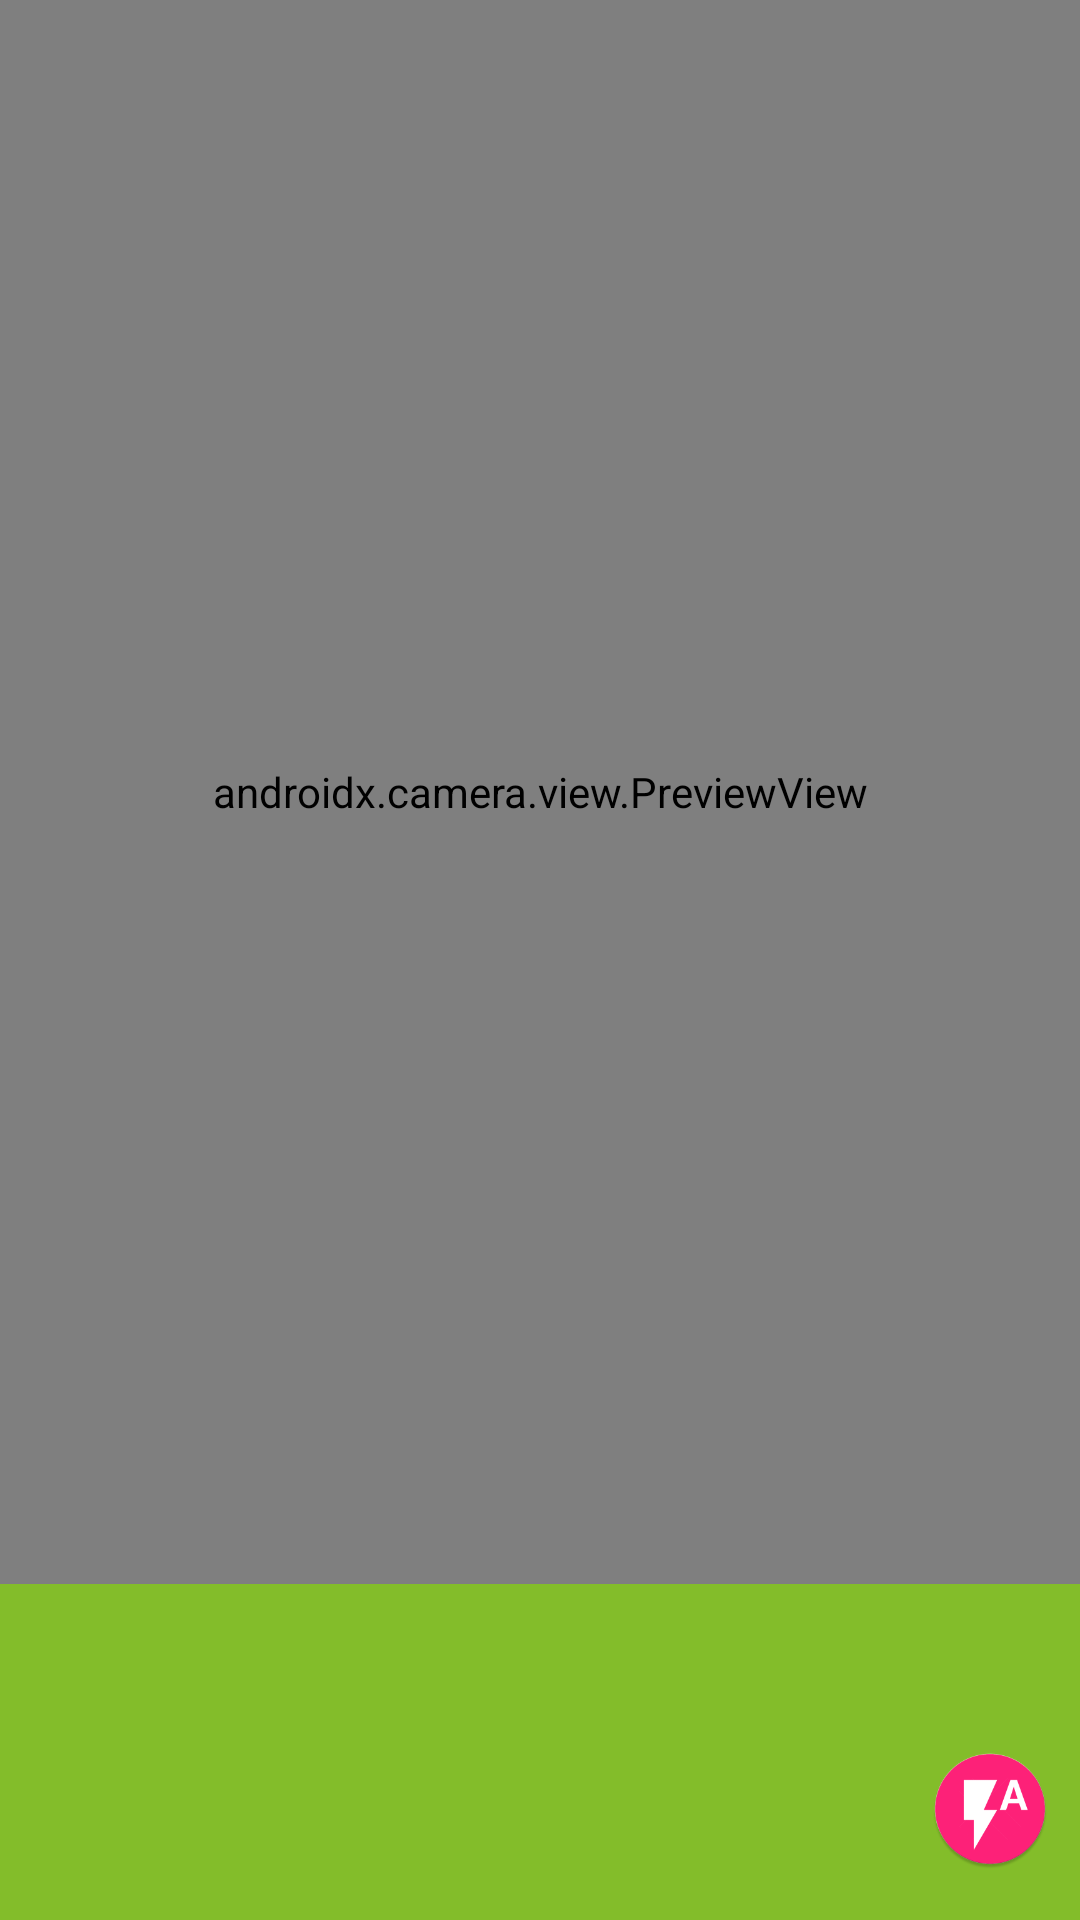

Where to tap for icons on this 1080 x 1920 app screen, as point (x, y):
auto flash: point (990, 1809)
